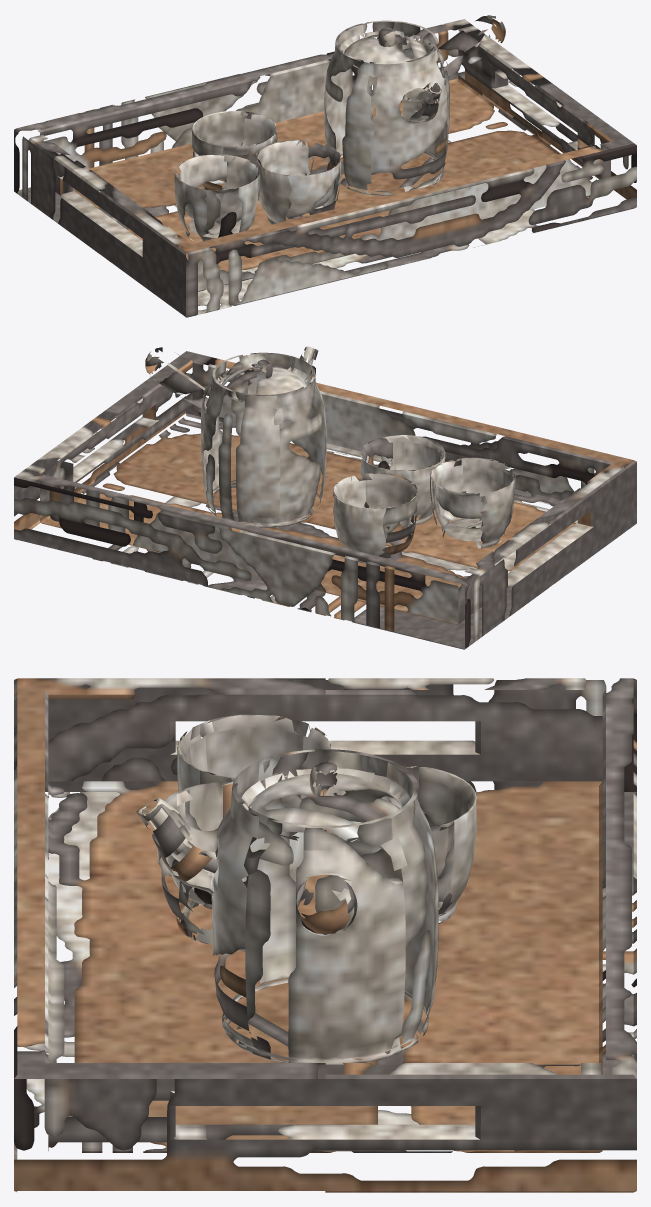
The model's file is raw_model.obj.
3 views of the same model, one above another, from view 1: azimuth 30°, elevation 25°; view 2: azimuth 150°, elevation 25°; view 3: azimuth 270°, elevation 25° (orthographic). The views are drawn at different scales.
Parts seen in each view (by area): view 1: solid_002, solid_001; view 2: solid_002, solid_001; view 3: solid_002, solid_001.
Part boxes in pixels (<box>): solid_002: <box>14,19,636,317</box>; solid_001: <box>174,15,505,241</box>; solid_002: <box>14,351,636,649</box>; solid_001: <box>145,346,515,563</box>; solid_002: <box>14,678,636,1192</box>; solid_001: <box>136,714,476,1064</box>.
Bounding box in the file's own units: 0.3952 × 0.1313 × 0.2607.
